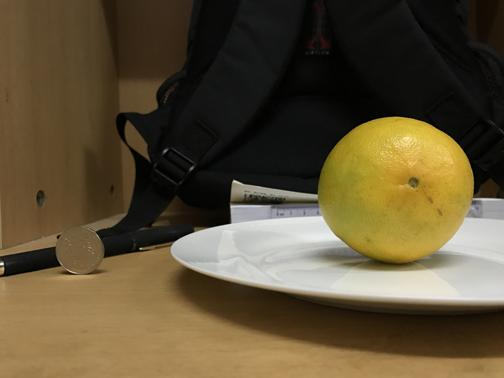coin: (56, 227, 103, 275)
orange: (318, 113, 474, 263)
